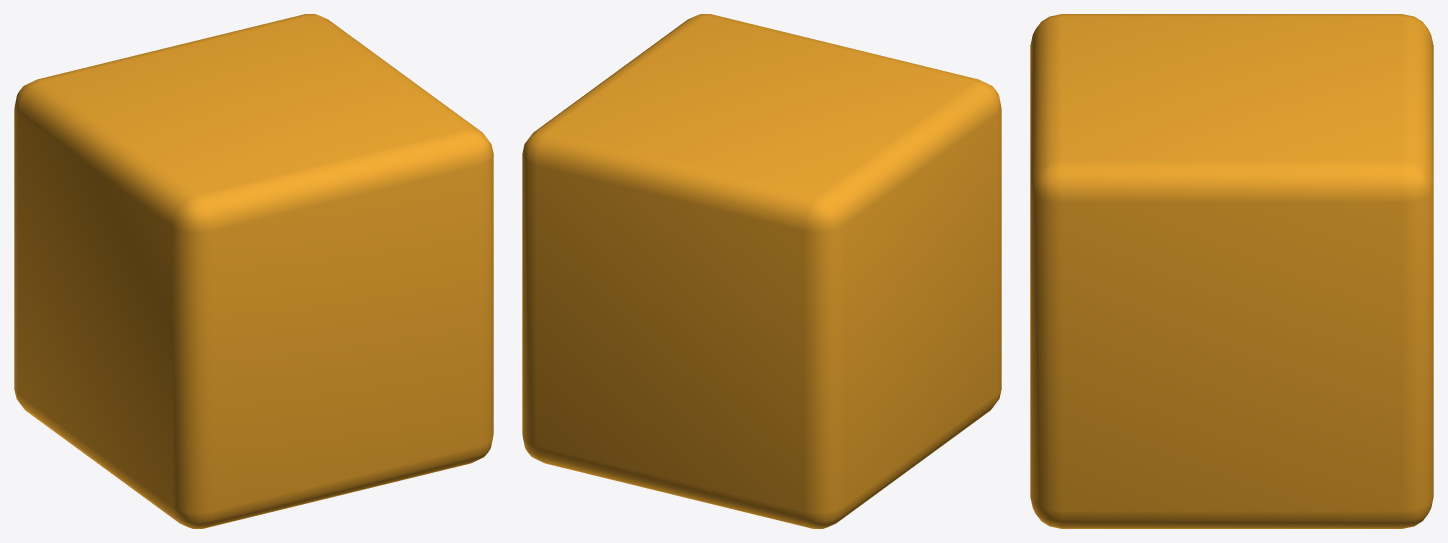
File: sarı.fbx
The picture shows the model from 3 angles, left to right: view 1: azimuth 30°, elevation 25°; view 2: azimuth 150°, elevation 25°; view 3: azimuth 270°, elevation 25°; orthographic projection. The views are drawn at different scales.
Visible parts, largest first — view 1: Cube.013; view 2: Cube.013; view 3: Cube.013.
Part boxes in pixels (box(x1,y1,x2,y2)): Cube.013: box(14, 14, 493, 528); Cube.013: box(522, 14, 1001, 528); Cube.013: box(1030, 14, 1433, 528).
Size of the model in its own units: 200 by 200 by 200.
